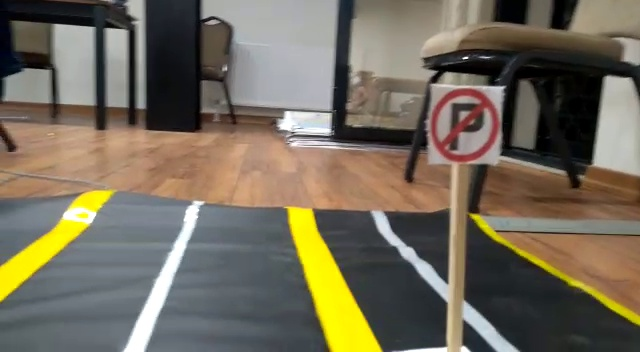park_yapilmaz: (427, 84, 499, 164)
